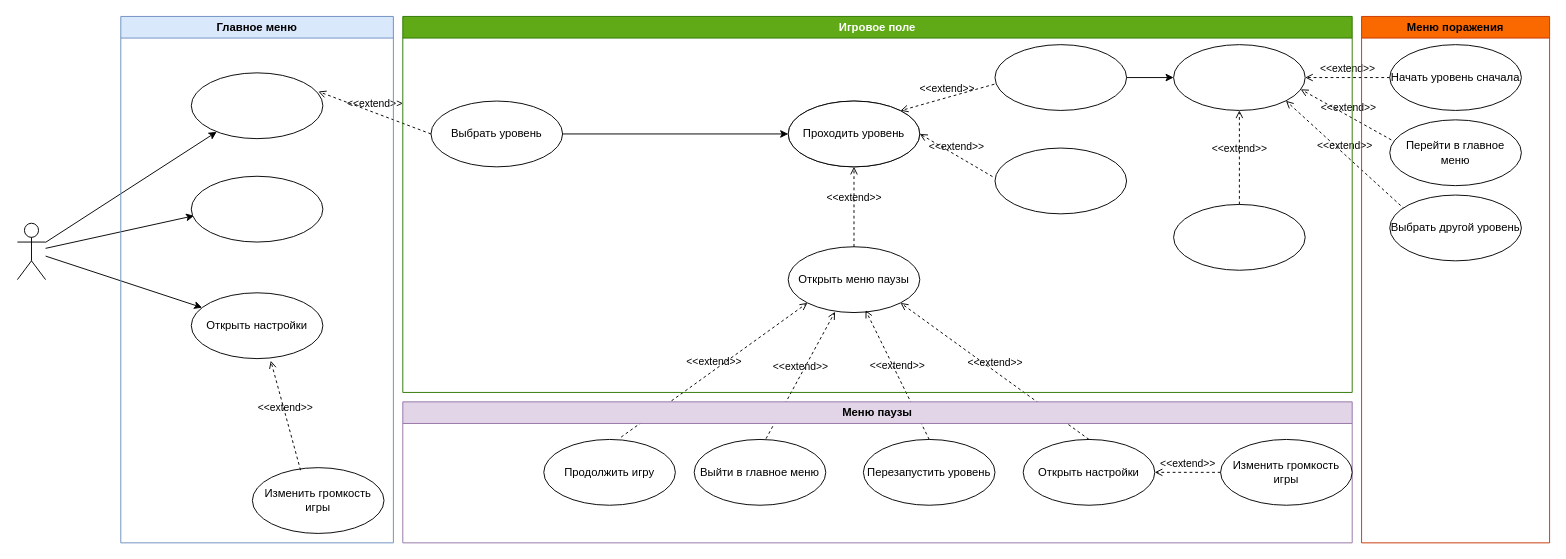
The diagram is 1566 pixels wide and 559 high, and some of its shapes have lost their labels. Here are the shapes that lost their labels. From the top down, the centre of each, then its label:
At [1060,77]: "Столкнуться с препятствием".
At [1239,77]: "Провалить уровень".
At [256,105]: "Начать игру".
At [1060,180]: "Подобрать еду".
At [256,208]: "Выйти из игры".
At [31,251]: "Игрок".
At [1239,237]: "Поставить новый рекорд".
